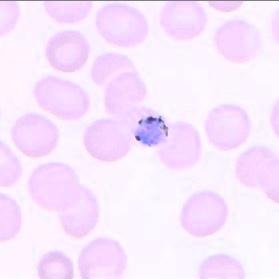Infected: (125, 105, 169, 147)
Uninfected: (28, 161, 81, 213), (33, 76, 90, 119), (95, 3, 149, 47), (56, 184, 100, 237), (83, 117, 135, 161), (180, 190, 227, 237), (76, 238, 128, 279), (11, 113, 60, 156), (159, 122, 201, 170), (204, 104, 249, 148), (45, 29, 89, 73), (216, 19, 259, 63), (158, 0, 206, 39), (92, 52, 136, 94), (235, 145, 278, 187), (105, 73, 147, 114), (37, 250, 73, 279)
